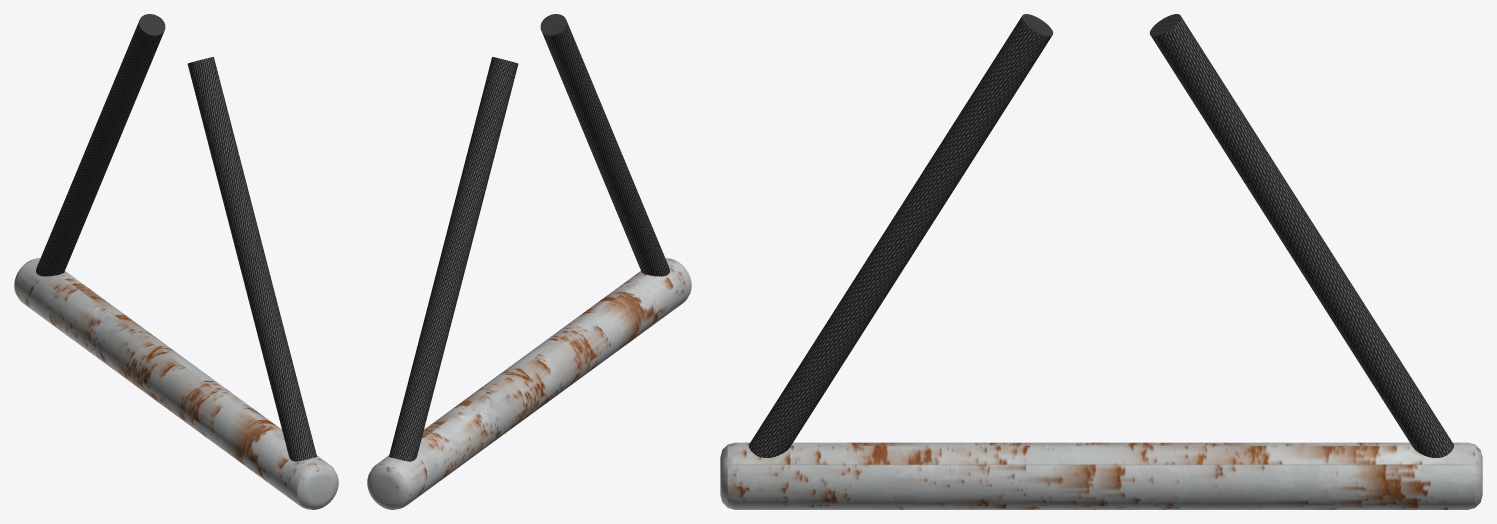
File: зиплайн часть 2.fbx
3 renders of one model, left to right at view 1: azimuth 30°, elevation 25°; view 2: azimuth 150°, elevation 25°; view 3: azimuth 270°, elevation 25°, orthographic. The views are drawn at different scales.
Parts seen in each view (by area): view 1: Cube.002; view 2: Cube.002; view 3: Cube.002.
Part boxes in pixels (box(x1,y1,x2,y2)): Cube.002: box(14, 14, 338, 509); Cube.002: box(367, 14, 691, 509); Cube.002: box(720, 14, 1482, 509).
Size of the model in its own units: 12.23 by 97.98 by 138.
2 materials, 2 textured.
